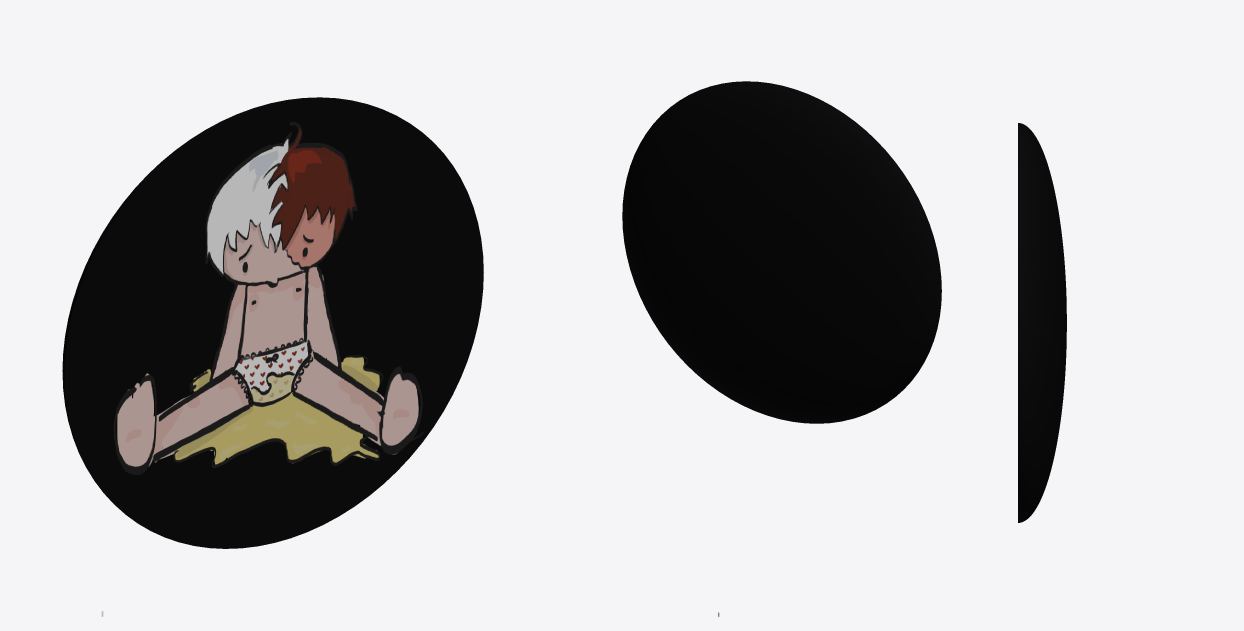
The model's file is shouto23.glb.
3 views of the same model, side by side, from view 1: azimuth 30°, elevation 25°; view 2: azimuth 150°, elevation 25°; view 3: azimuth 270°, elevation 25° (orthographic). The views are drawn at different scales.
Parts seen in each view (by area): view 1: mesh_id42, mesh_id26; view 2: mesh_id42; view 3: mesh_id42.
Part boxes in pixels (<box>): mesh_id42: <box>62,97,483,548</box>; mesh_id26: <box>113,122,423,474</box>; mesh_id42: <box>622,81,941,423</box>; mesh_id42: <box>1018,123,1066,522</box>.
Size of the model in its own units: 0.3 by 0.3328 by 0.1273.
Materials: 3 (3 with a texture image).
